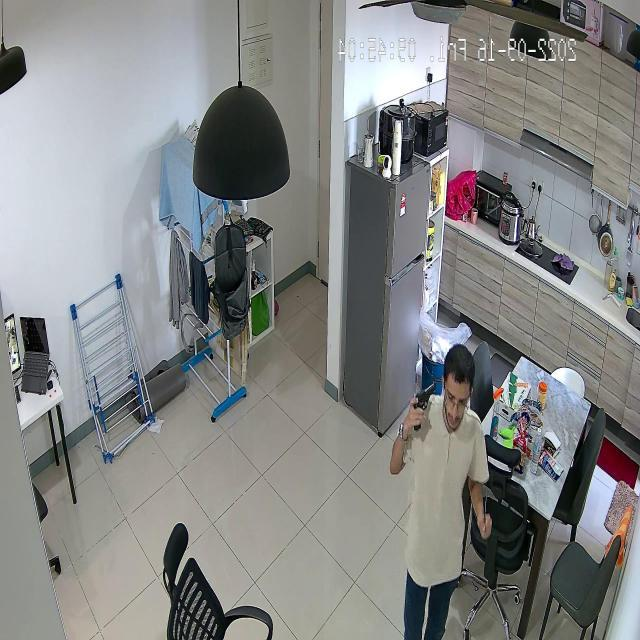Gun: (395, 367, 440, 428)
